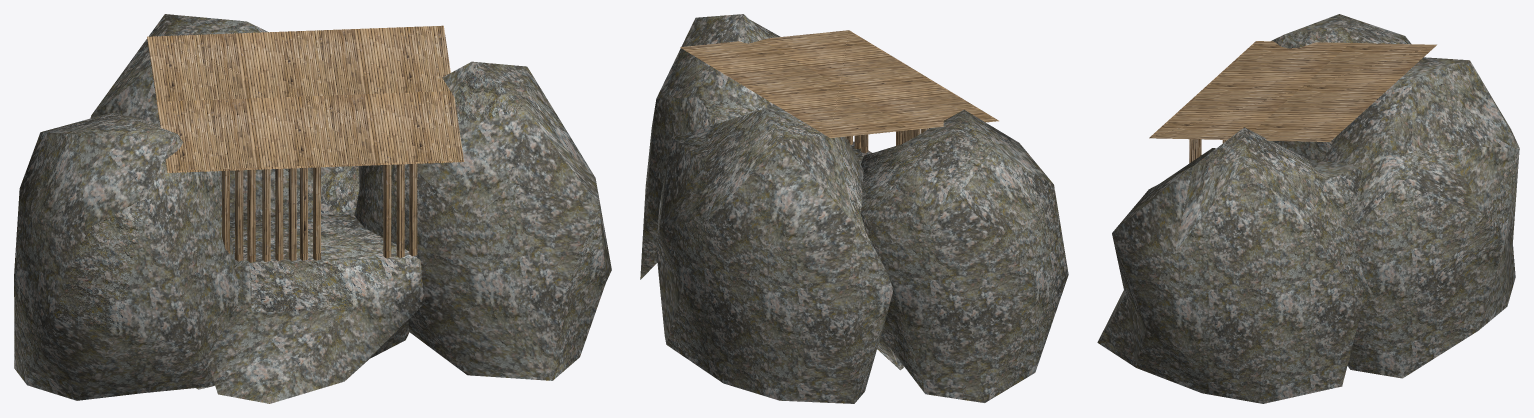
Rendered from prison.FBX.
3 renders of one model, left to right at view 1: azimuth 30°, elevation 25°; view 2: azimuth 150°, elevation 25°; view 3: azimuth 270°, elevation 25°, orthographic. The views are drawn at different scales.
Visible parts, largest first — view 1: prison; view 2: prison; view 3: prison.
Boxes of the visible parts, bbox=[...] form: prison: bbox=[14, 14, 611, 403]; prison: bbox=[640, 14, 1068, 403]; prison: bbox=[1097, 14, 1519, 403].
Size of the model in its own units: 486 by 274 by 415.
